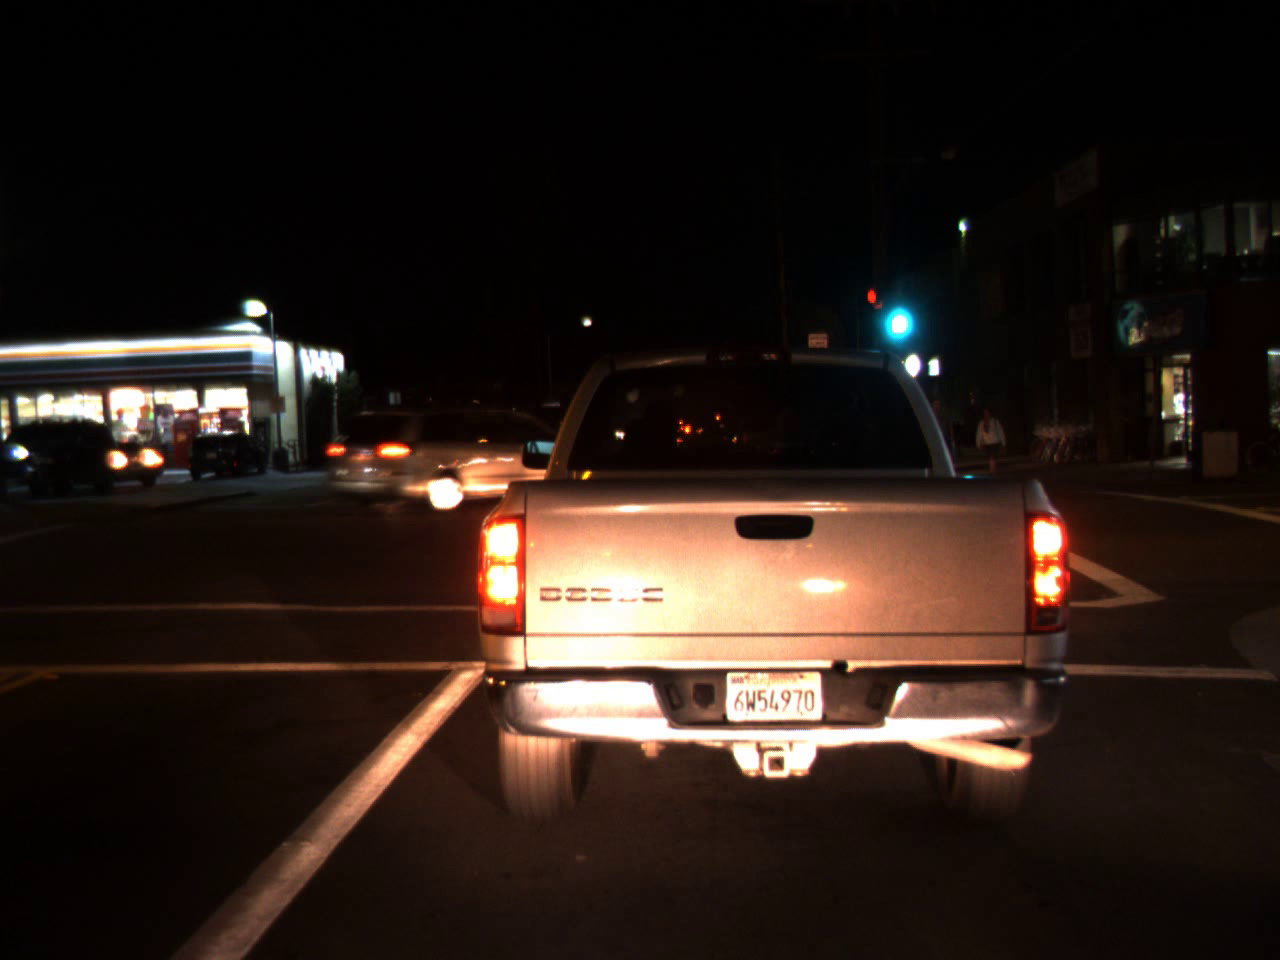go: (875, 276, 912, 348)
